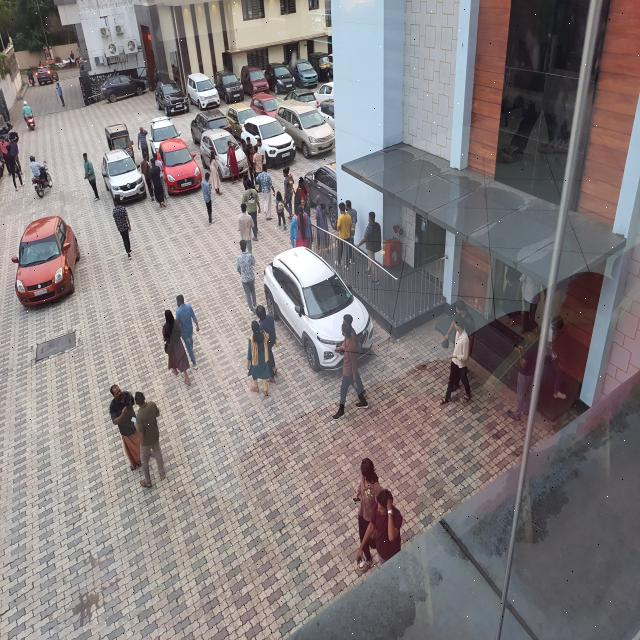humans: (129, 390, 170, 492), (333, 322, 372, 423), (356, 487, 402, 566), (349, 455, 378, 568), (438, 318, 474, 407), (108, 382, 141, 474), (513, 323, 541, 422), (158, 307, 192, 388), (173, 293, 204, 373), (355, 211, 387, 287), (440, 298, 479, 359), (255, 302, 281, 387), (246, 320, 274, 398), (234, 240, 259, 316), (111, 194, 136, 264), (549, 314, 567, 400), (333, 202, 351, 272), (254, 165, 276, 221), (345, 198, 363, 266), (236, 201, 258, 253), (314, 193, 333, 253), (149, 157, 170, 210), (4, 146, 26, 193), (152, 152, 172, 203), (290, 204, 313, 248), (139, 150, 158, 202), (8, 133, 28, 181), (83, 151, 101, 204), (241, 179, 264, 218), (225, 138, 243, 185), (282, 166, 297, 222), (202, 171, 216, 228), (209, 149, 225, 197), (27, 156, 51, 187), (245, 136, 259, 184), (273, 189, 289, 231), (0, 131, 13, 180), (252, 146, 264, 194), (136, 126, 151, 157), (296, 175, 307, 208), (300, 195, 315, 217), (20, 99, 35, 121), (257, 138, 269, 164), (55, 81, 66, 108), (24, 67, 37, 88), (69, 50, 77, 71)
